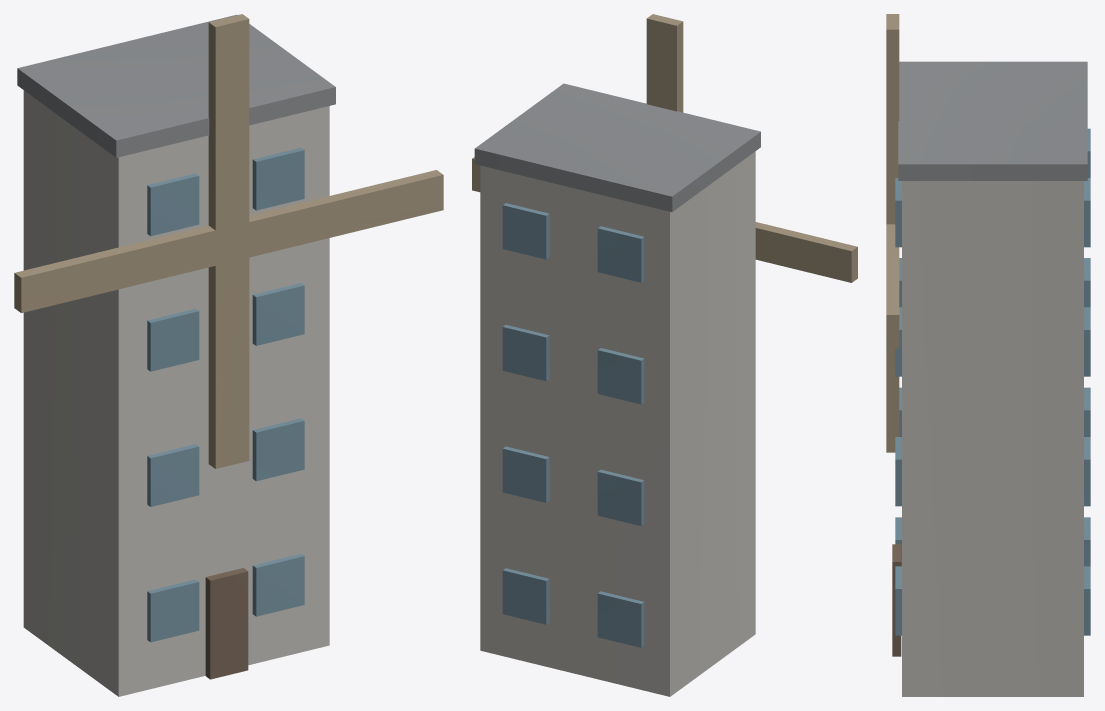
The model's file is windmill-01.glb.
The picture shows the model from 3 angles, left to right: view 1: azimuth 30°, elevation 25°; view 2: azimuth 150°, elevation 25°; view 3: azimuth 270°, elevation 25°; orthographic projection. The views are drawn at different scales.
Parts seen in each view (by area): view 1: world; view 2: world; view 3: world.
Part boxes in pixels (x1,y1,x2,y2): world: (14,14,443,696); world: (472,14,857,696); world: (886,14,1090,696).
Size of the model in its own units: 1.79 by 2.64 by 0.7824.
